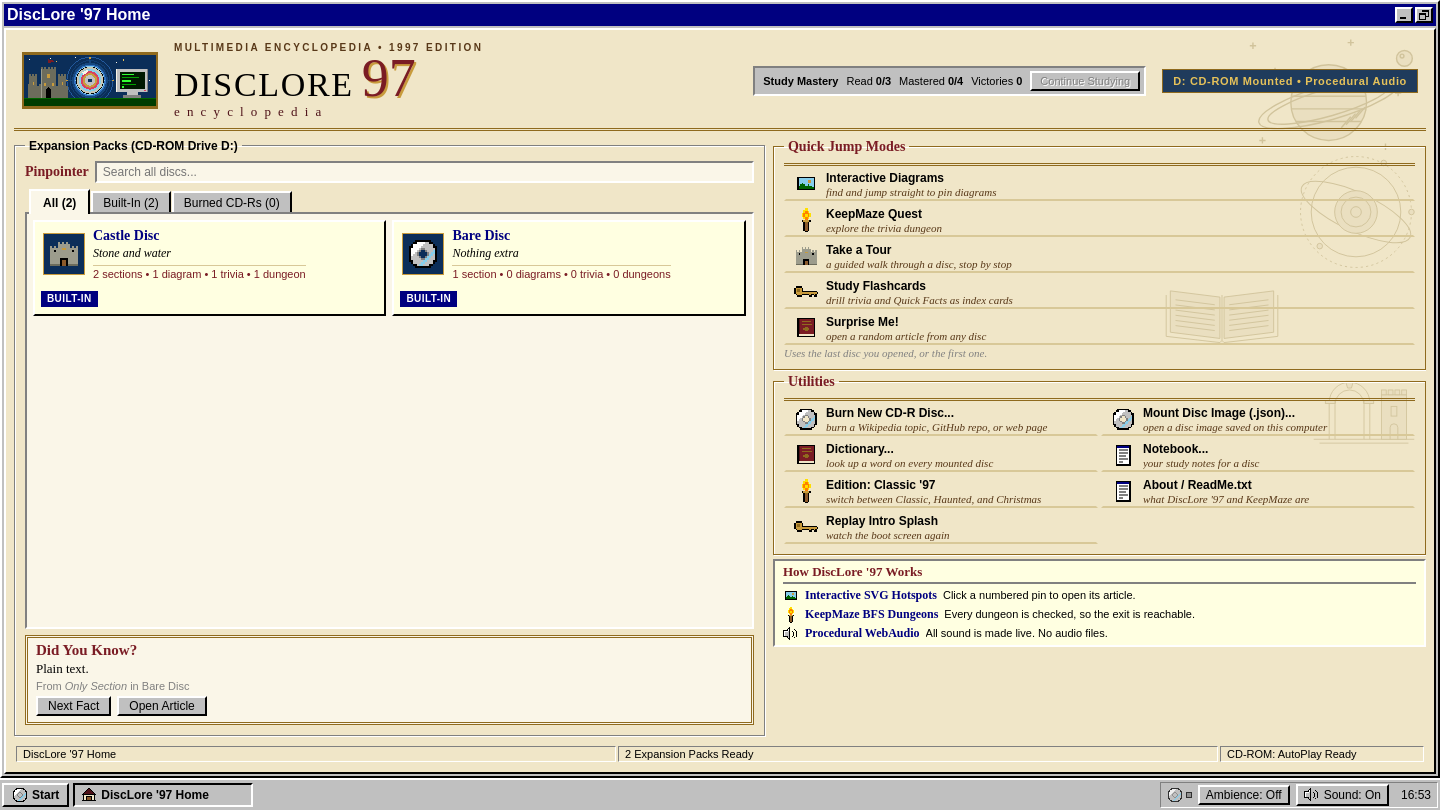
it: Start menu › closes on Escape and returns the focus to the Start button
The image size is (1440, 810).
Click the button with aria-label "Start menu". click: (36, 795)
box: [2, 783, 69, 807]
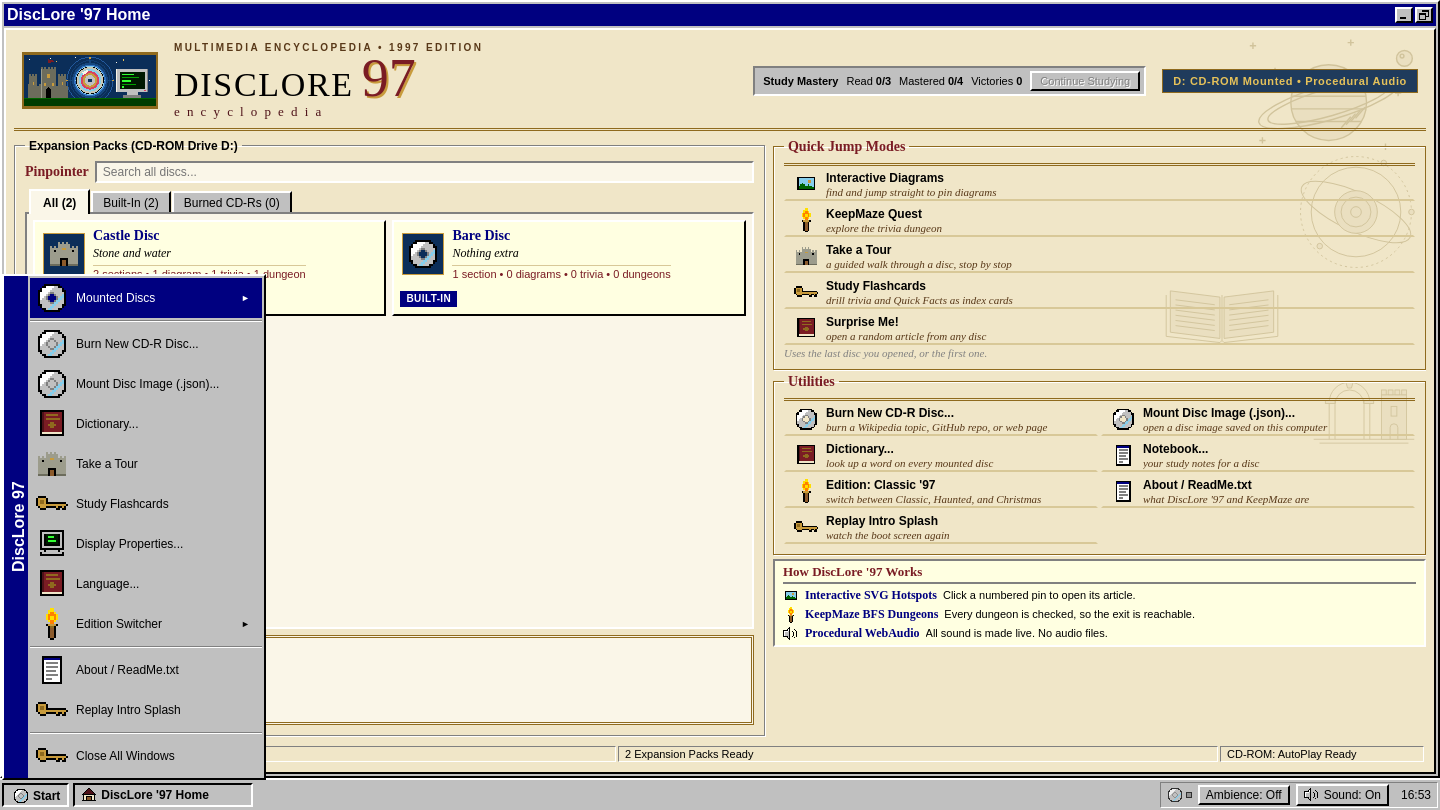
Press Escape
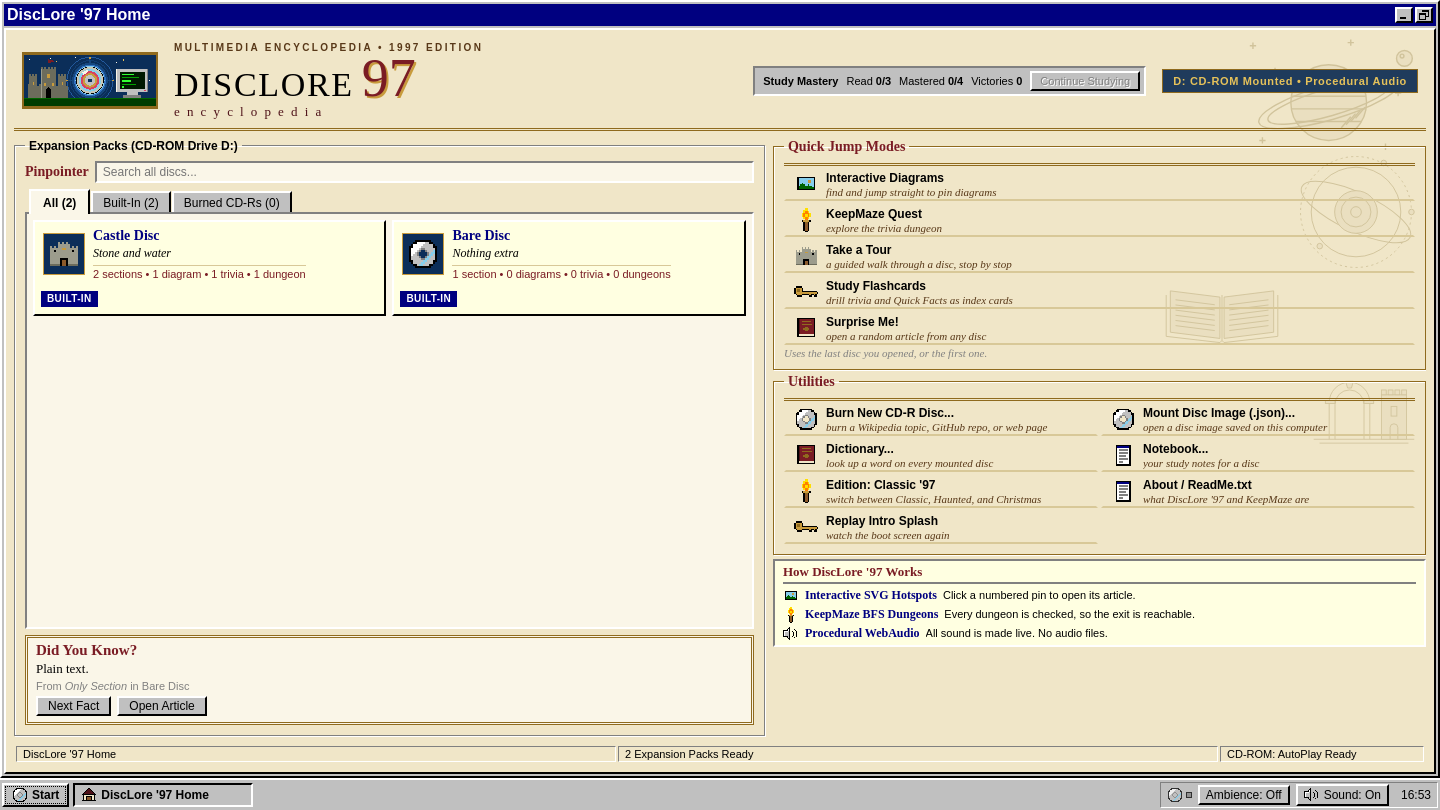
Now the menu item "Start menu" is gone
Now the button with aria-label "Start menu" is collapsed, box [2, 783, 69, 807]
